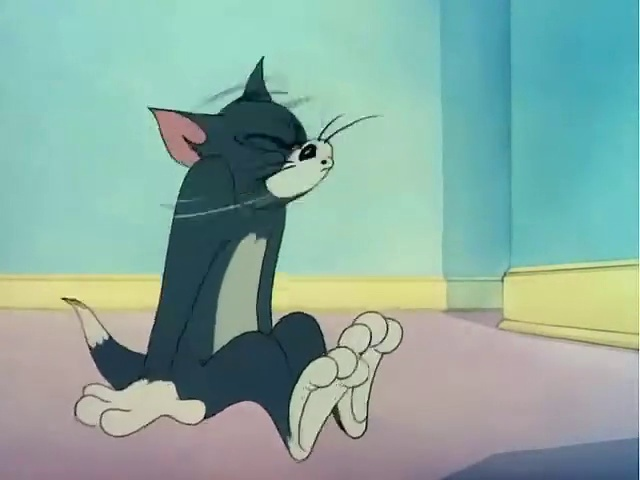tom: (29, 6, 407, 468)
